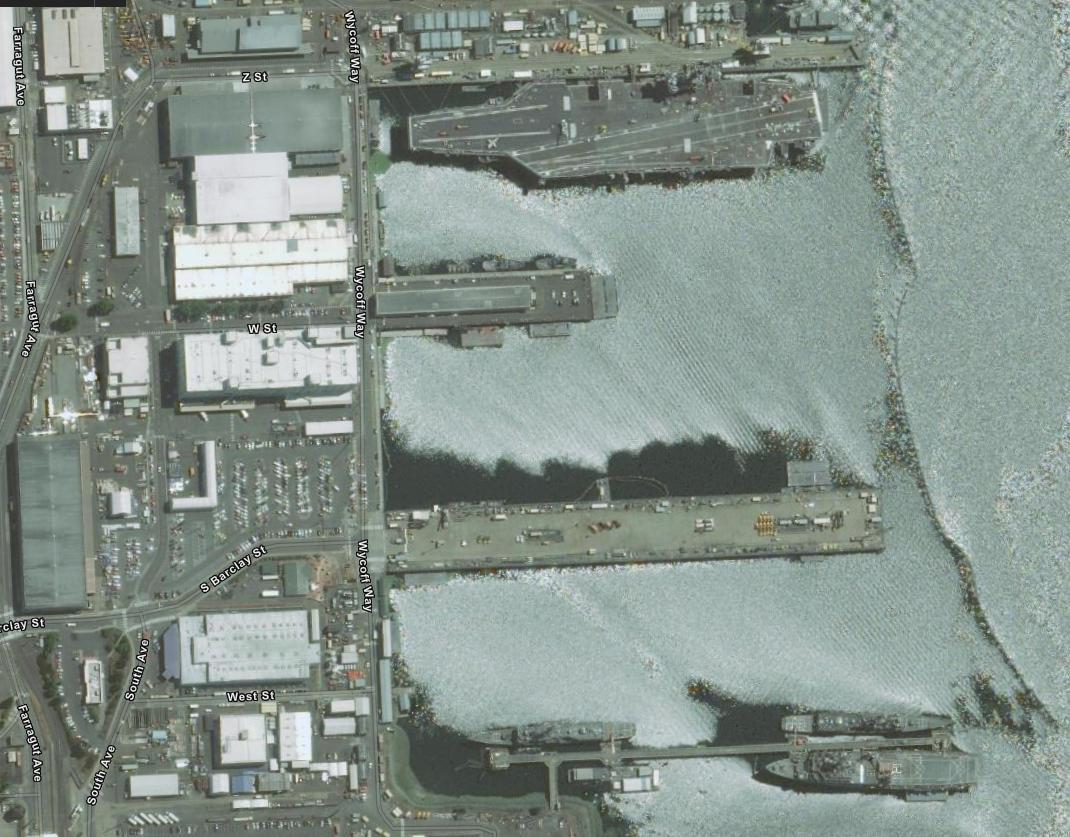carrier: (385, 64, 843, 196)
